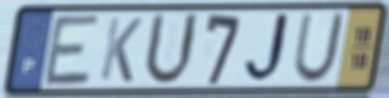7: (205, 11, 242, 87)
E: (41, 11, 103, 89)
J: (242, 11, 297, 87)
K: (97, 14, 145, 85)
U: (140, 10, 201, 89), (290, 10, 348, 85)
